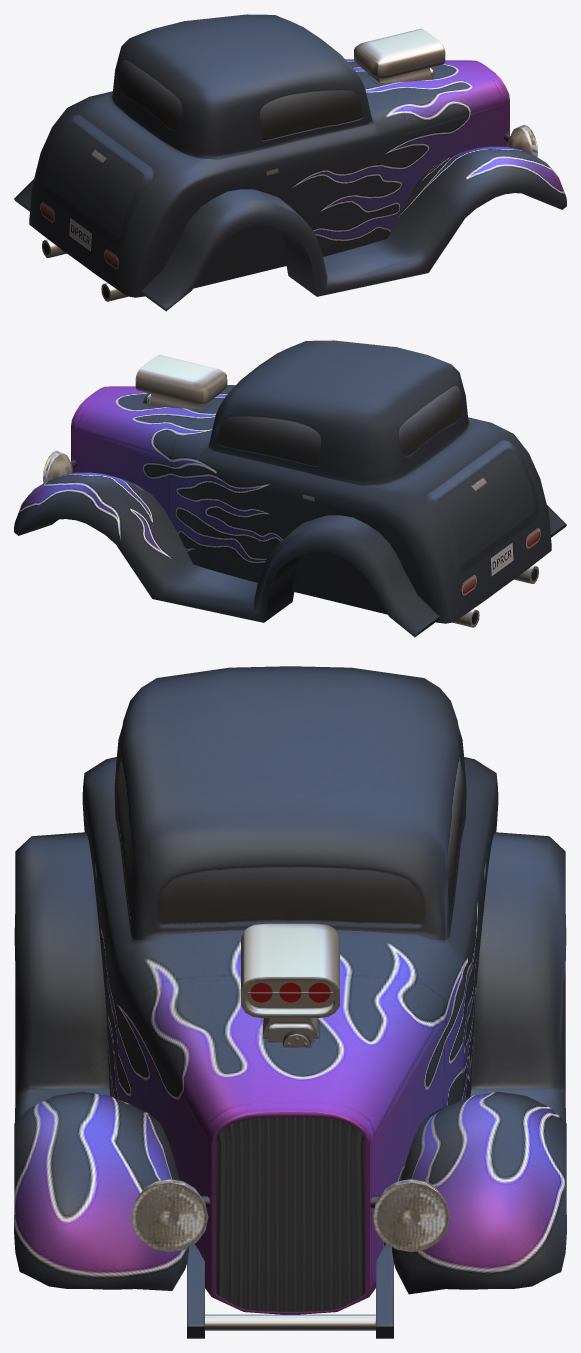
The model's file is f1_hotrod_03.dae.
3 renders of one model, top to bottom at view 1: azimuth 30°, elevation 25°; view 2: azimuth 150°, elevation 25°; view 3: azimuth 270°, elevation 25°, orthographic. The views are drawn at different scales.
Visible parts, largest first — view 1: hotrod_body; view 2: hotrod_body; view 3: hotrod_body.
Boxes of the visible parts, box(x1,y1,x2,y2) form: hotrod_body: box(14, 14, 566, 311); hotrod_body: box(14, 340, 566, 637); hotrod_body: box(14, 666, 566, 1338).
Size of the model in its own units: 0.2866 by 0.1707 by 0.1279.
1 material, 1 textured.
